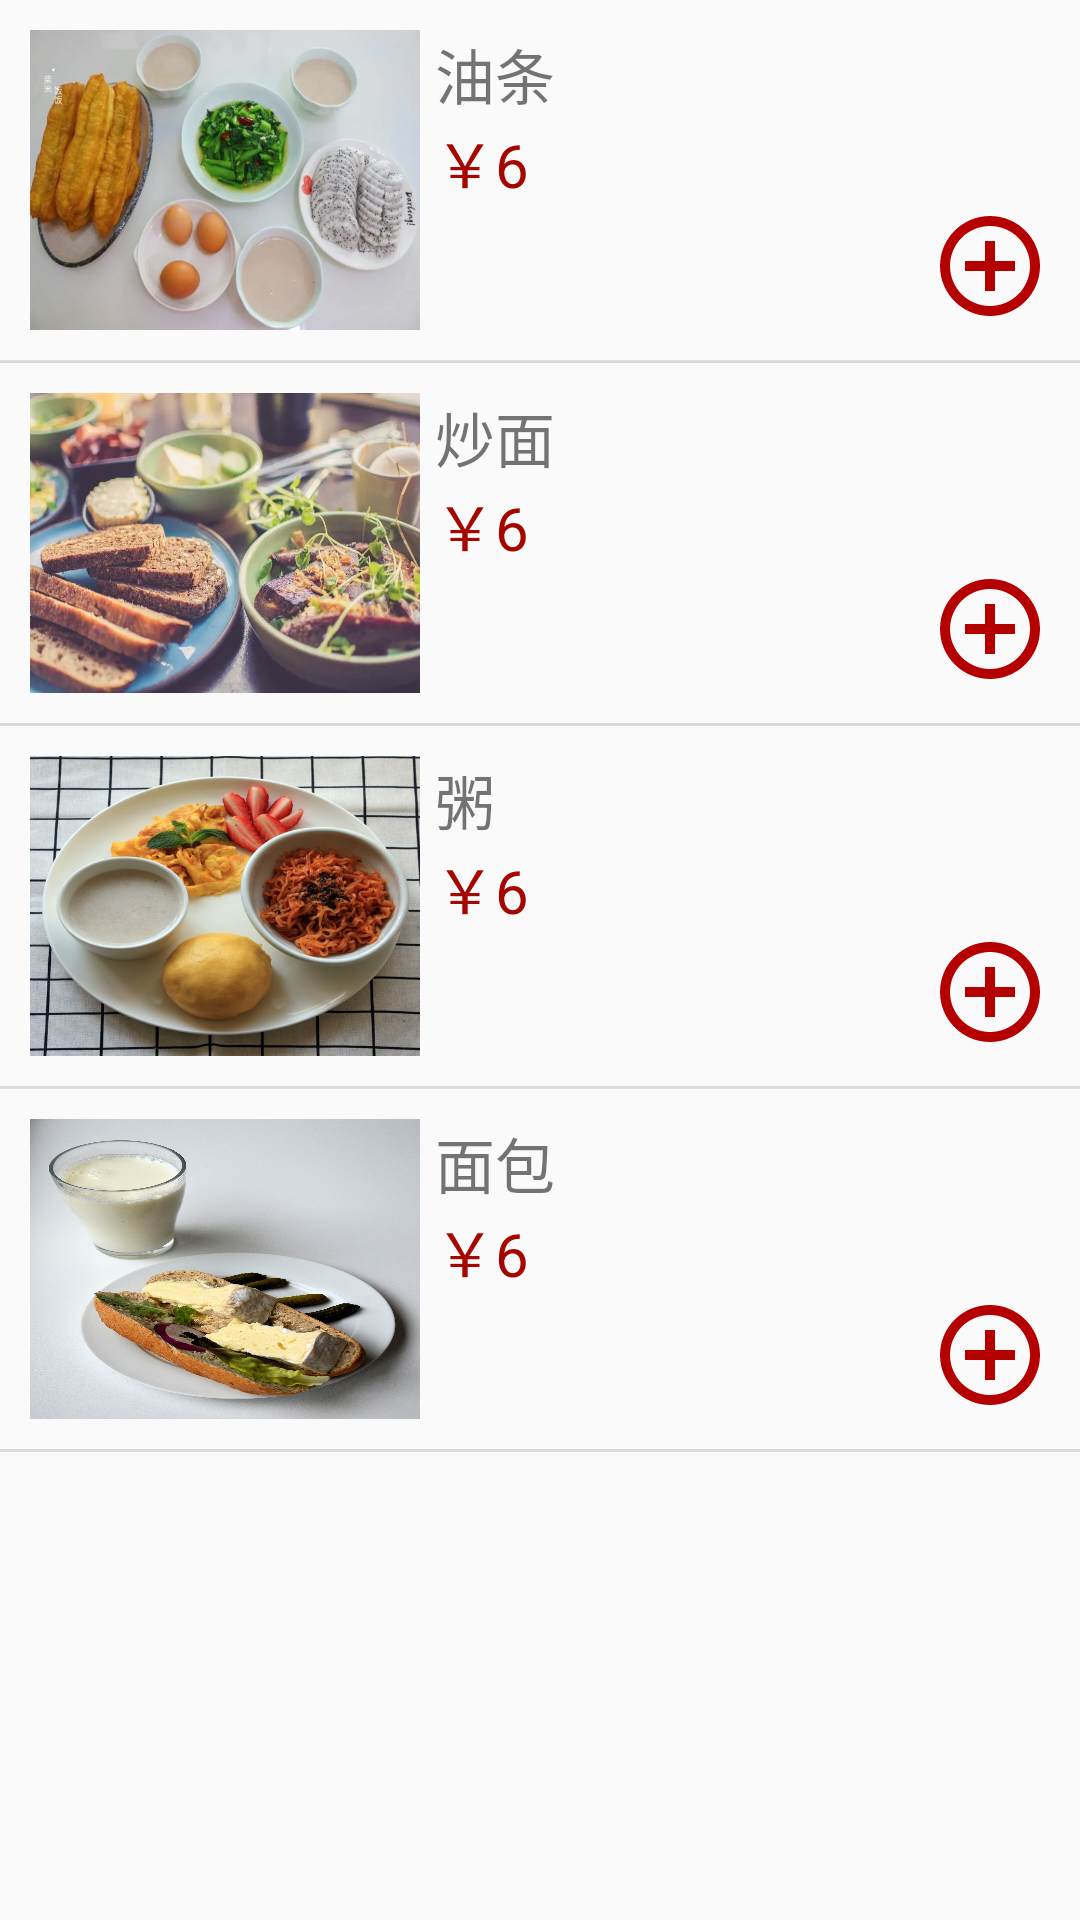

Icon click points for this 1080px x 1920px phone screenshot, format point (x, y):
add circle: point (990, 266), point (990, 629), point (990, 992), point (990, 1355)
